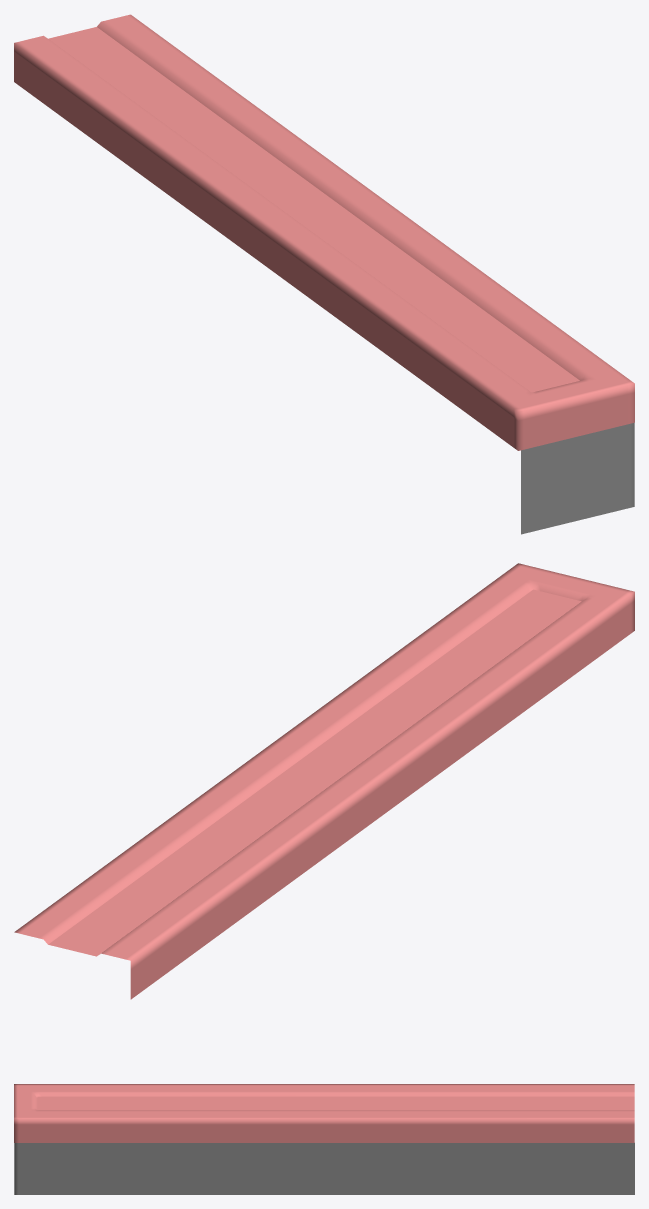
File: CHN_PondWall01.gltf
The picture shows the model from 3 angles, top to bottom: view 1: azimuth 30°, elevation 25°; view 2: azimuth 150°, elevation 25°; view 3: azimuth 270°, elevation 25°; orthographic projection. The views are drawn at different scales.
Visible parts, largest first — view 1: CHN_PondWall01; view 2: CHN_PondWall01; view 3: CHN_PondWall01.
Part boxes in pixels (x1,y1,x2,y2): CHN_PondWall01: (14, 14, 634, 534); CHN_PondWall01: (14, 563, 634, 999); CHN_PondWall01: (14, 1084, 634, 1194).
Bounding box in the file's own units: 2.3 × 2.32 × 17.19.
